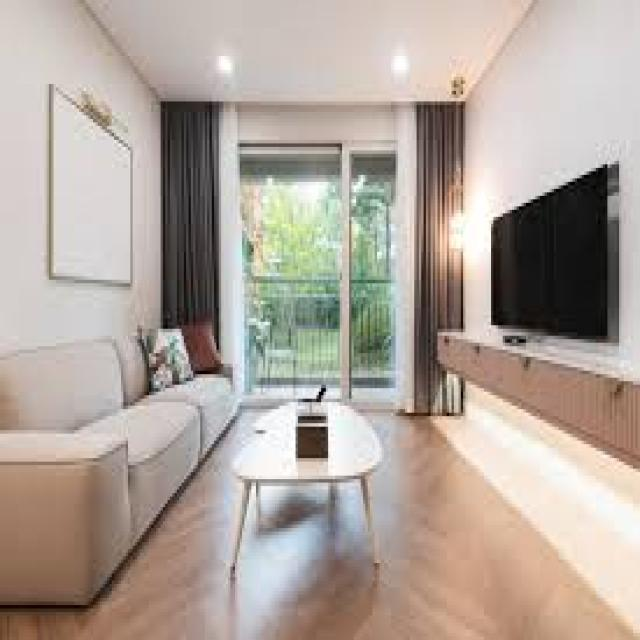Sofa: (1, 310, 234, 604)
Table: (227, 395, 387, 580)
tv: (479, 162, 612, 342)
window: (199, 145, 419, 381)
